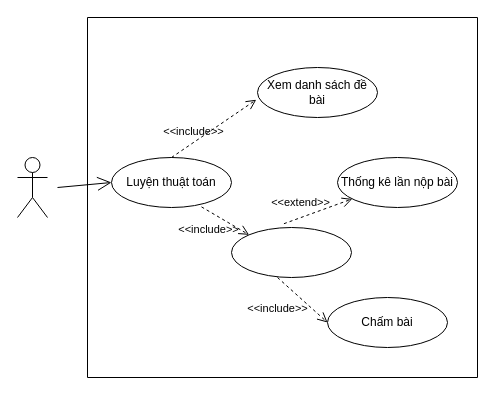
This 495x395 diagram has some shape labels left out. The shapes that lost their labels are listed below. From the top down, each one's box as (x1, y1, x2, y2) in pixels, then its label:
(16, 156, 48, 218): User
(230, 226, 352, 278): Làm bài
